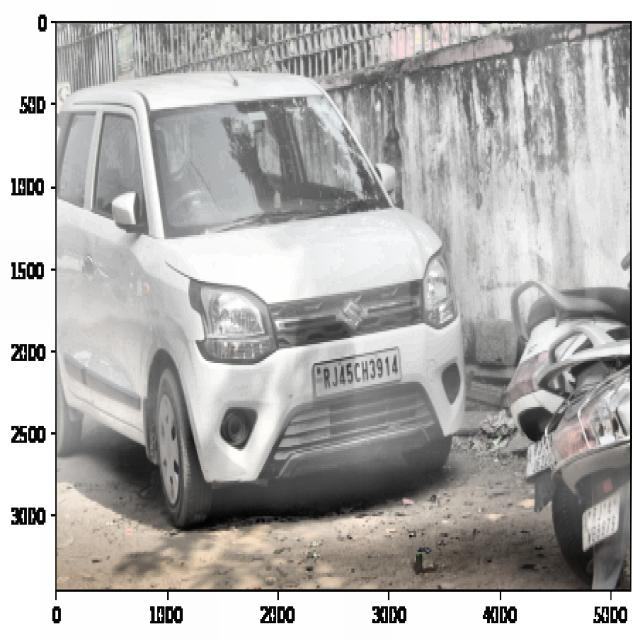license_plate: (322, 352, 401, 394)
